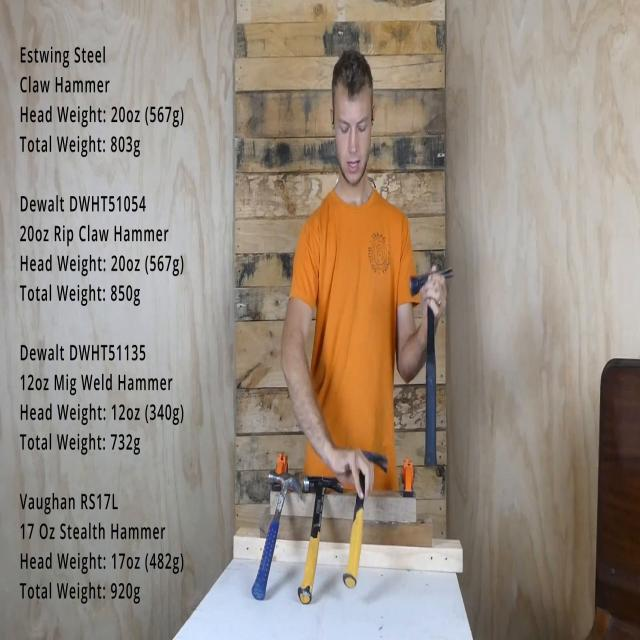hammer: (405, 251, 462, 473), (340, 434, 401, 590), (249, 465, 311, 603), (298, 465, 351, 607)
